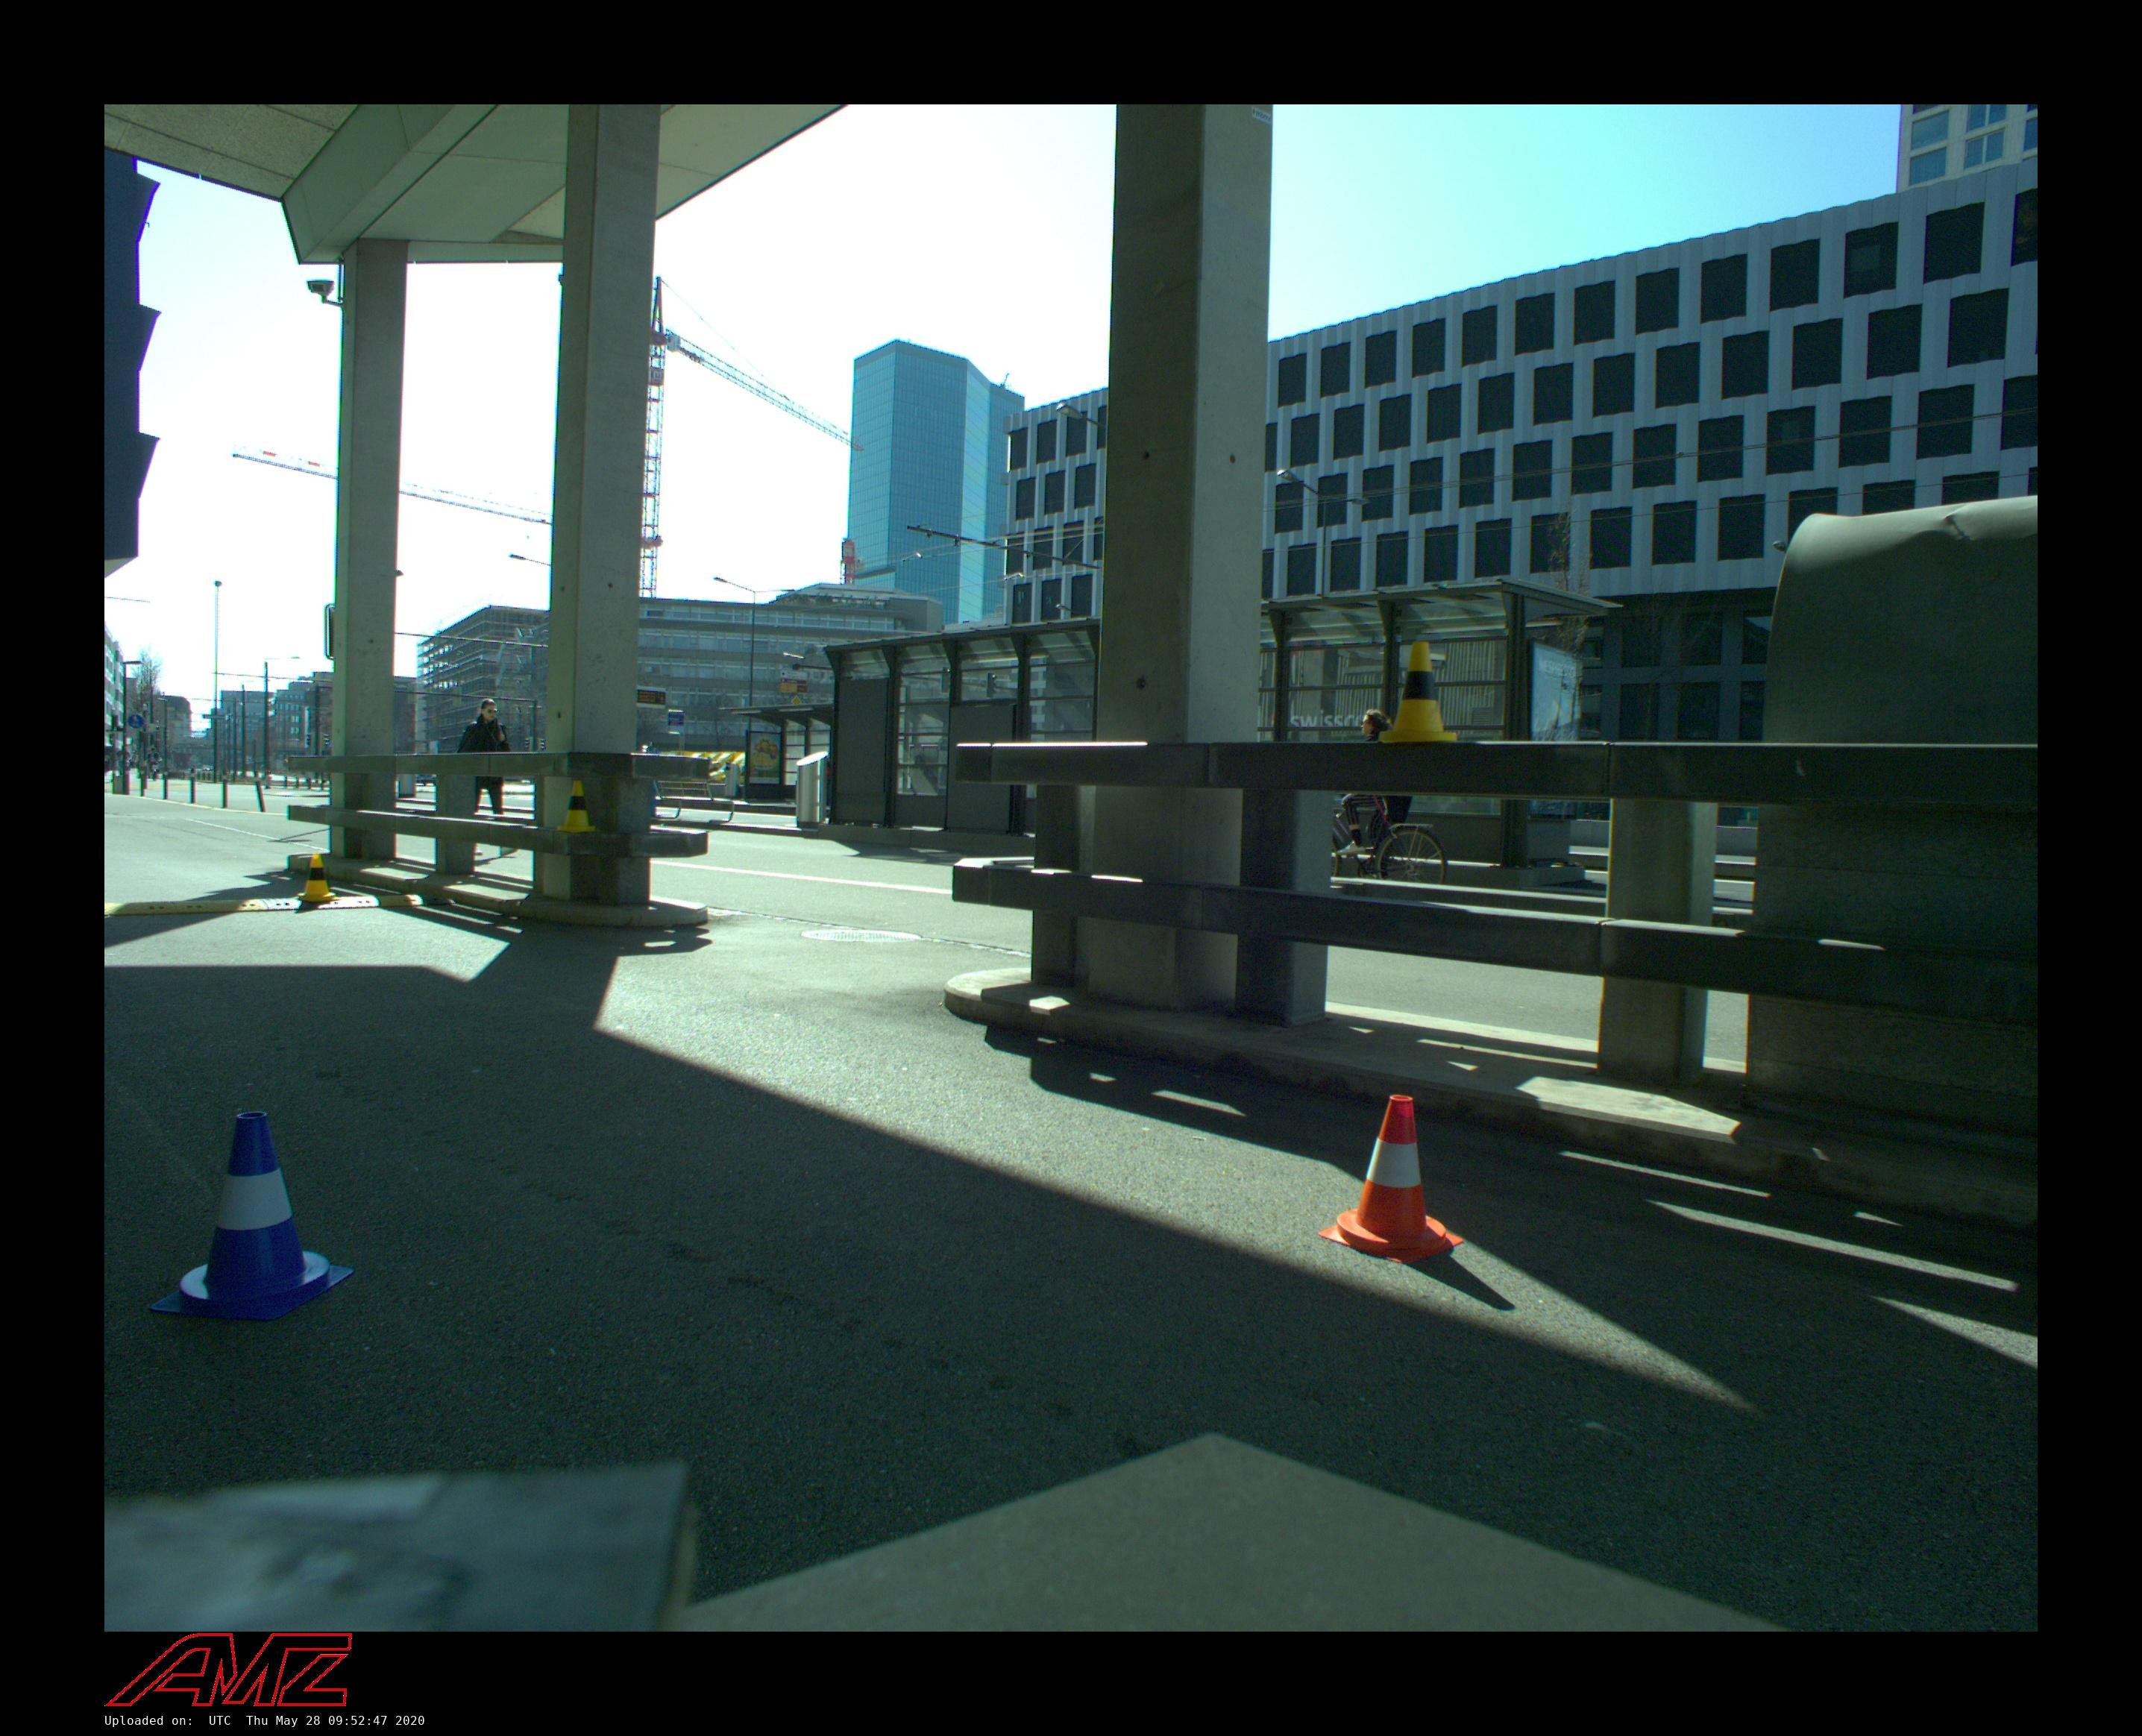blue_cone: (154, 1111, 356, 1318)
orange_cone: (1316, 1093, 1467, 1261)
yellow_cone: (1380, 639, 1456, 742), (558, 781, 595, 833), (298, 854, 337, 902)
